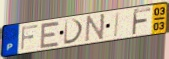D: (63, 18, 85, 46)
E: (39, 20, 61, 49)
F: (131, 7, 153, 37), (20, 24, 40, 52)
I: (113, 12, 121, 39)
N: (84, 12, 107, 43)
